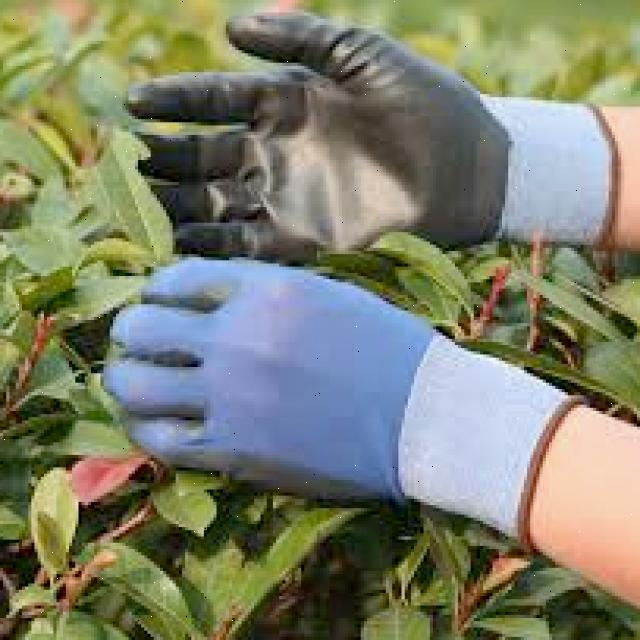Gloves: (105, 259, 576, 538), (128, 14, 640, 260)
